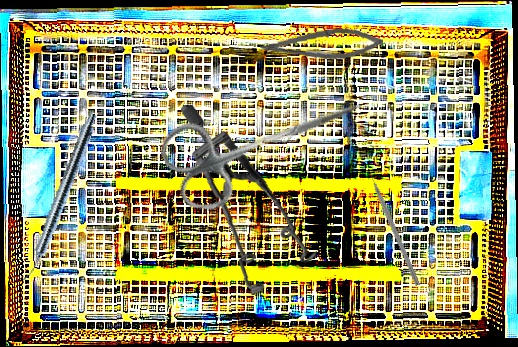Chopper: (365, 163, 427, 287)
Handpiece: (19, 110, 101, 285)
Iris Scissors: (154, 59, 378, 221)
Micro Scissor: (258, 23, 385, 68)
Speculum: (171, 104, 325, 299)
